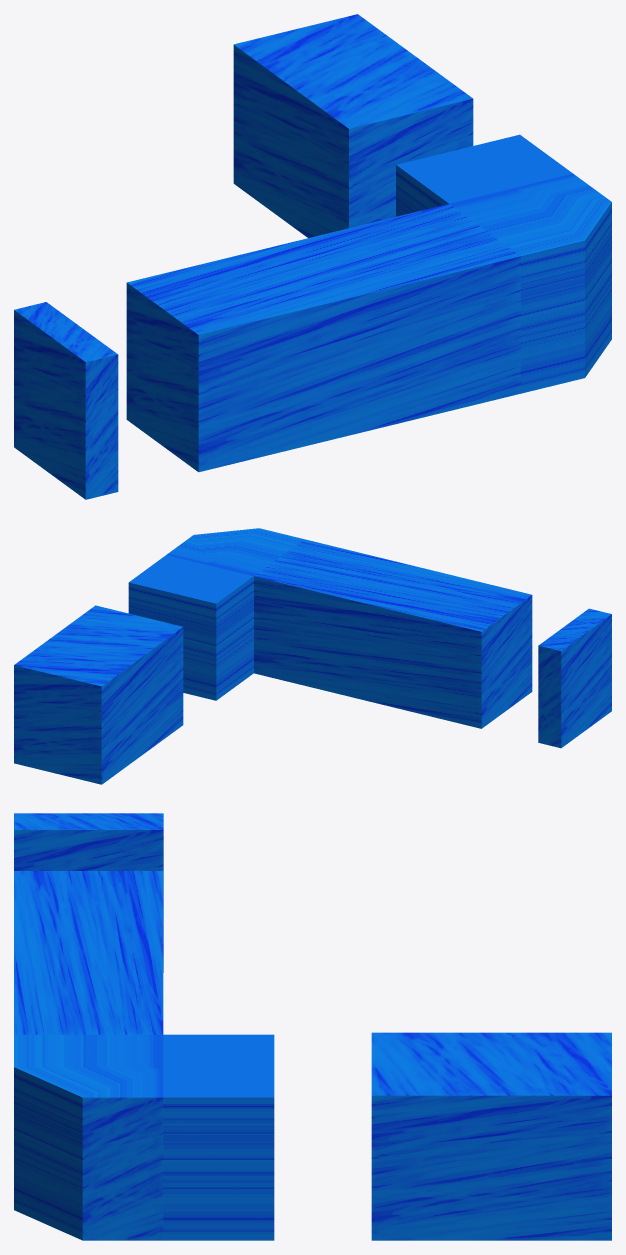
Rendered from stageSelectCollision.FBX.
3 views of the same model, one above another, from view 1: azimuth 30°, elevation 25°; view 2: azimuth 150°, elevation 25°; view 3: azimuth 270°, elevation 25° (orthographic). The views are drawn at different scales.
Parts seen in each view (by area): view 1: collision (×3); view 2: collision (×3); view 3: collision (×3).
Part boxes in pixels (box(x1,y1,x2,y2)): collision (×3): box(14, 14, 611, 499); collision (×3): box(14, 528, 611, 784); collision (×3): box(14, 813, 611, 1240).
Size of the model in its own units: 1007 by 896 by 239.
1 material, 1 textured.
